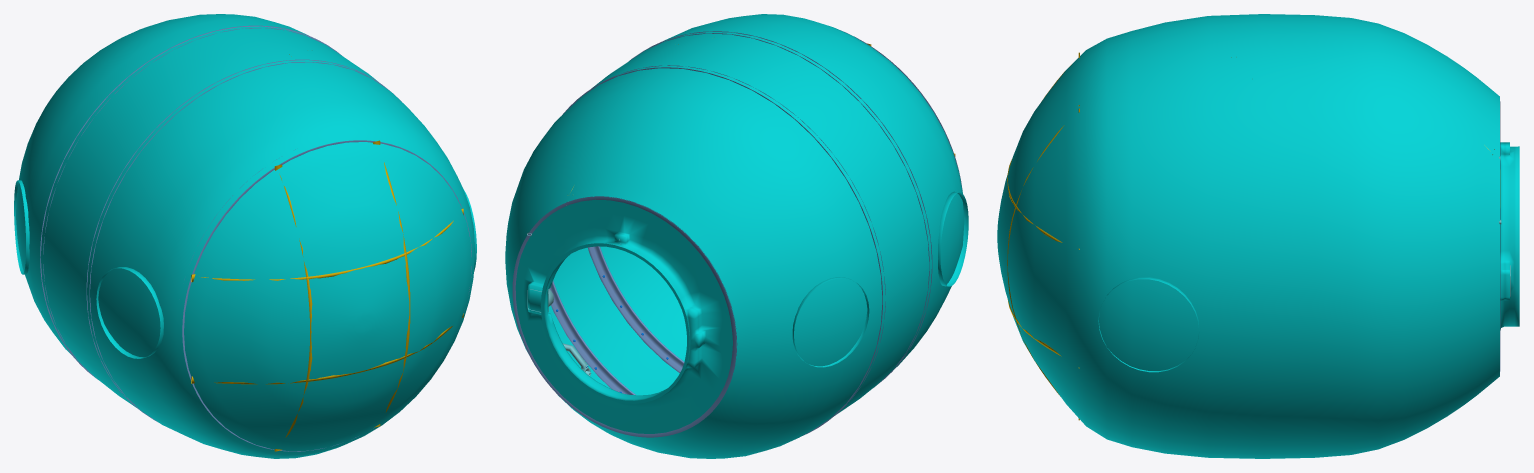
File: Sheathing.fbx
3 views of the same model, side by side, from view 1: azimuth 30°, elevation 25°; view 2: azimuth 150°, elevation 25°; view 3: azimuth 270°, elevation 25° (orthographic). The views are drawn at different scales.
Parts seen in each view (by area): view 1: Sheathing; view 2: Sheathing; view 3: Sheathing.
Boxes of the visible parts, x1=… form: Sheathing: x1=14, y1=14, x2=476, y2=458; Sheathing: x1=505, y1=14, x2=968, y2=458; Sheathing: x1=997, y1=14, x2=1519, y2=458.
Bounding box in the file's own units: 226 × 226 × 266.
